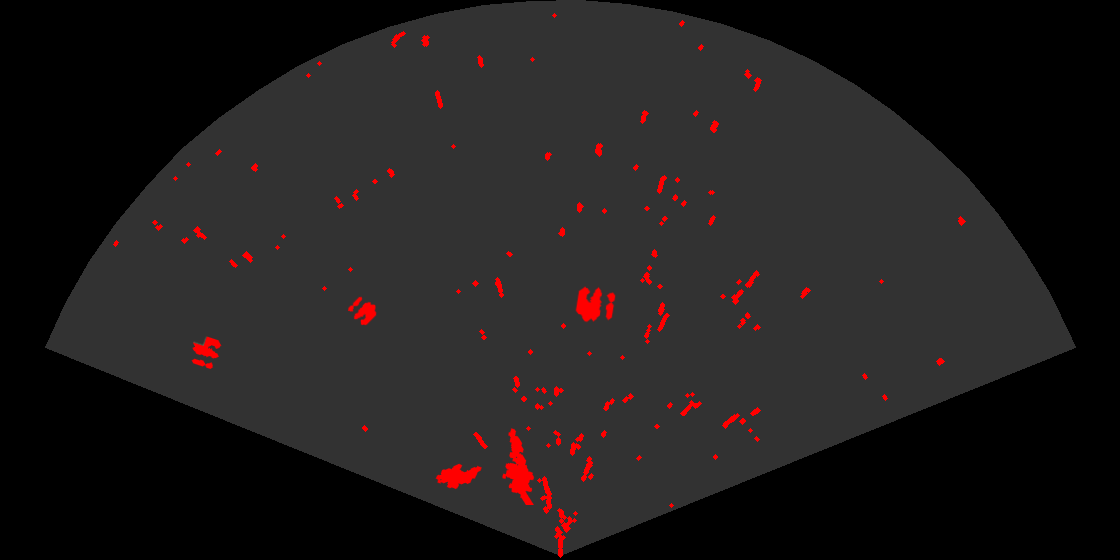AUV: (434, 462, 483, 491)
ball: (574, 285, 617, 324), (190, 335, 223, 371), (346, 295, 378, 327)
frogman: (501, 427, 536, 505)
